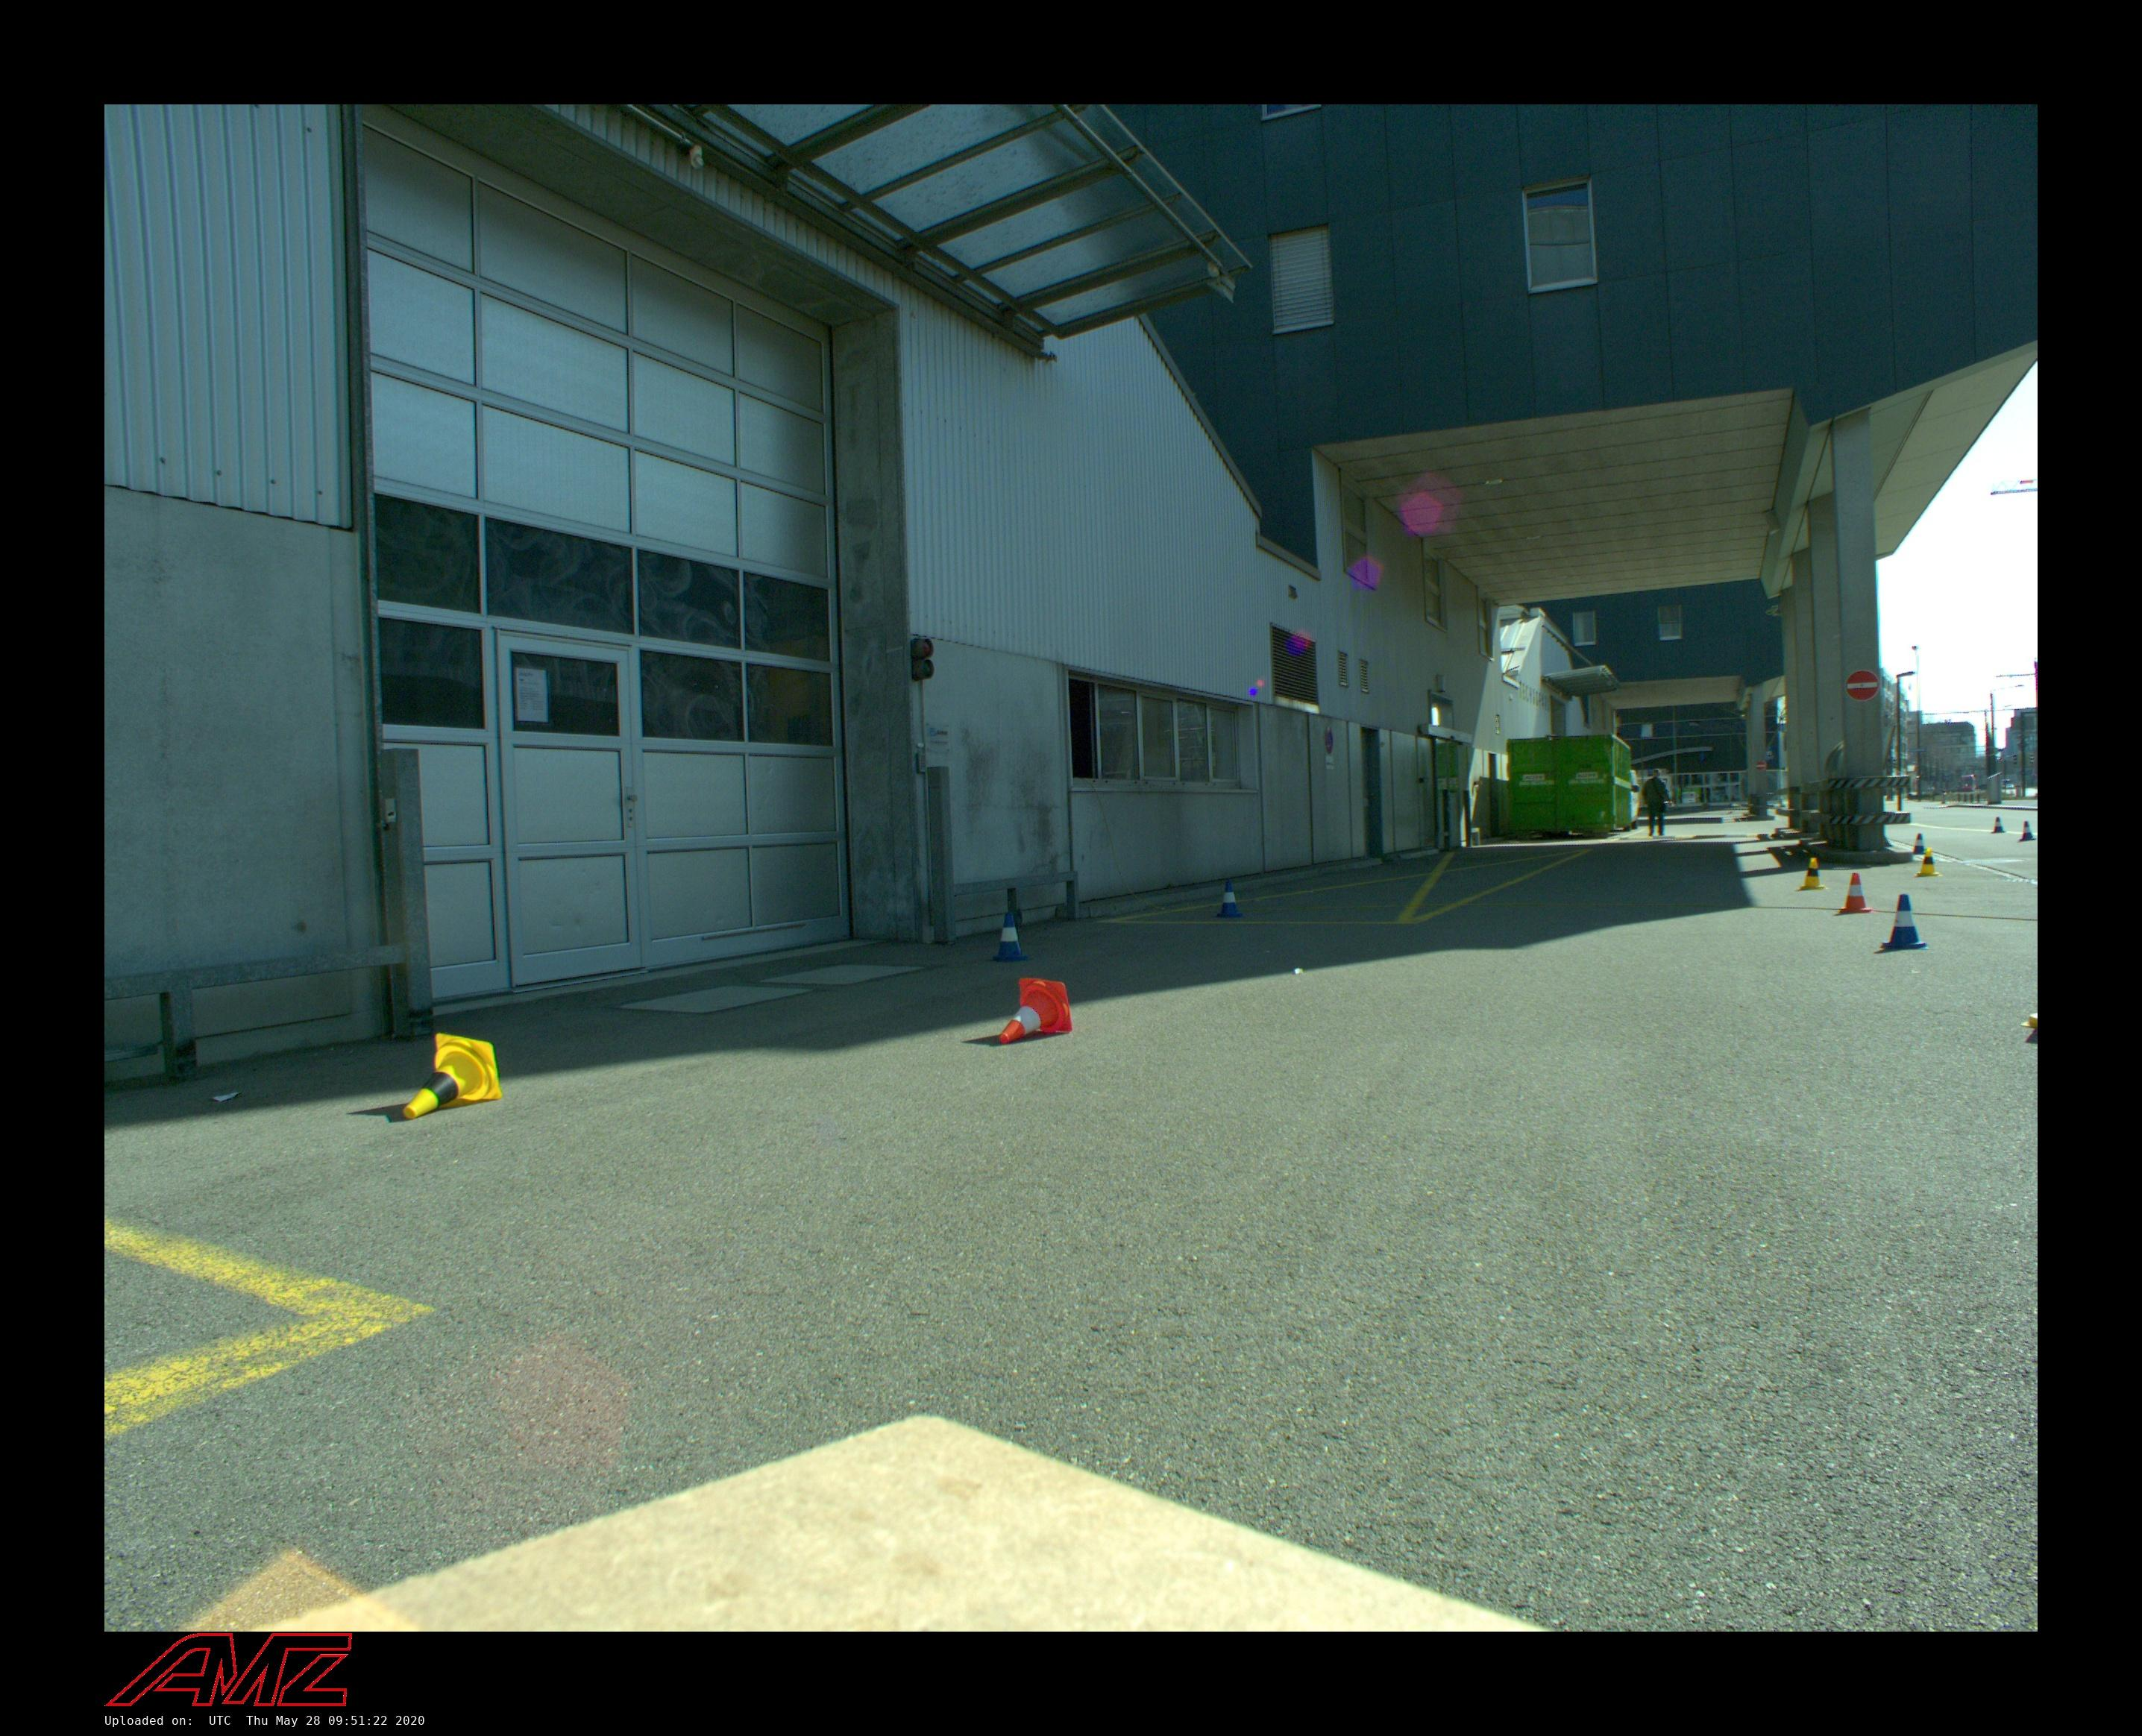blue_cone: (1882, 895, 1929, 949), (987, 912, 1031, 962), (1214, 882, 1244, 918), (2020, 820, 2036, 841), (1912, 834, 1926, 854), (1991, 817, 2006, 834)
orange_cone: (999, 978, 1072, 1043), (1837, 873, 1873, 914)
yellow_cone: (402, 1033, 501, 1120), (1798, 859, 1827, 889), (1915, 849, 1942, 877)
